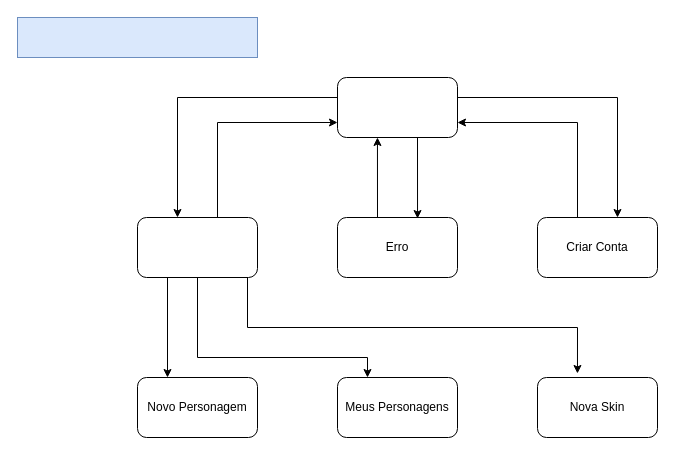
This 675x455 diagram has some shape labels left out. Each missing label, with the centre of its shape:
"Diagrama de Navegação" goes at point 137,37.
"Login" goes at point 397,107.
"Minha Conta" goes at point 197,247.
